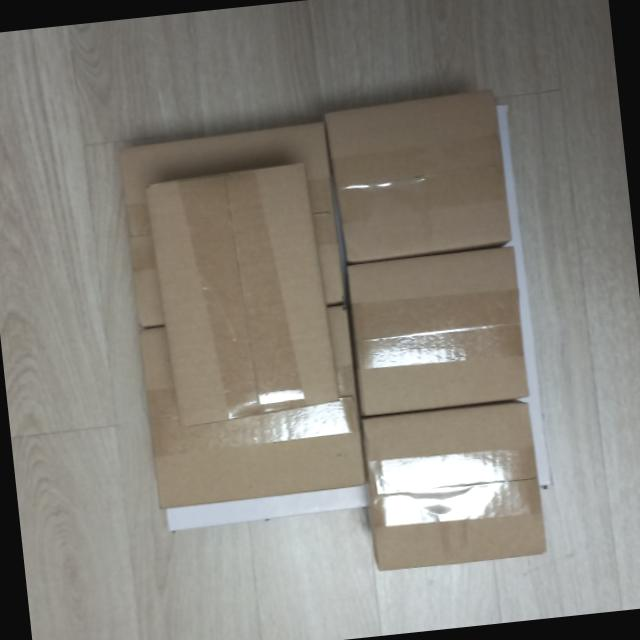box: (142, 154, 344, 432), (338, 238, 534, 418), (358, 395, 551, 577), (322, 83, 514, 263)
